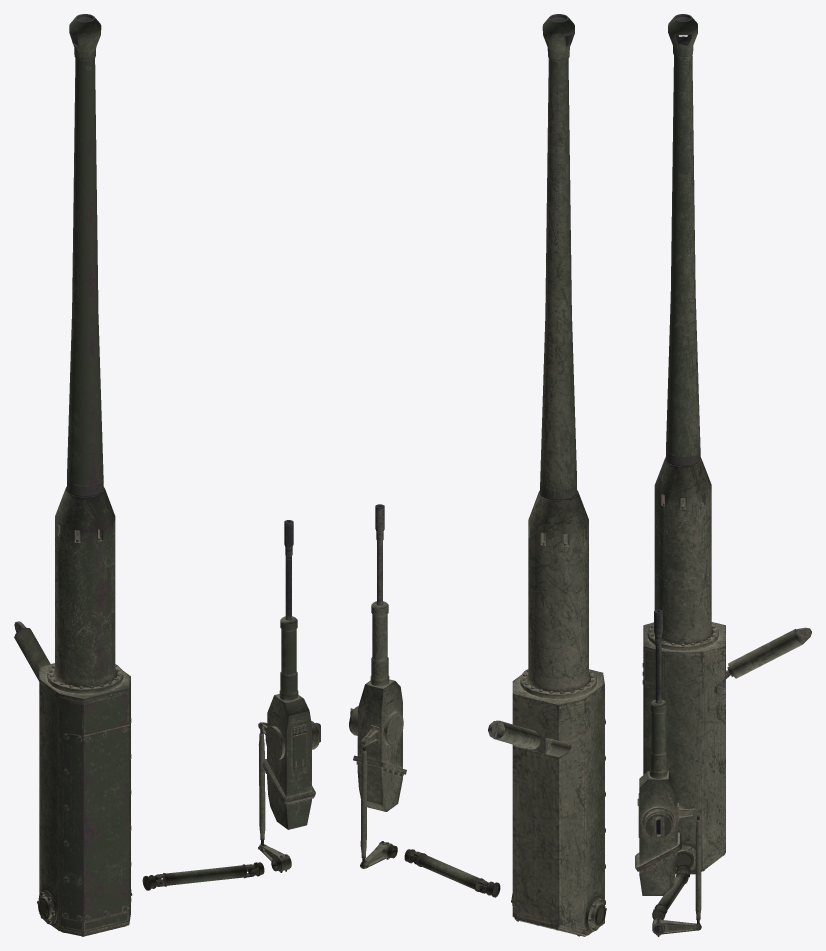
Rendered from Gun_01.glb.
3 renders of one model, left to right at view 1: azimuth 30°, elevation 25°; view 2: azimuth 150°, elevation 25°; view 3: azimuth 270°, elevation 25°, orthographic. The views are drawn at different scales.
Parts seen in each view (by area): view 1: set_0_group_0; view 2: set_0_group_0; view 3: set_0_group_0.
Boxes of the visible parts, left/top/right/bottom form: set_0_group_0: left=14, top=14, right=320, bottom=936; set_0_group_0: left=349, top=14, right=606, bottom=936; set_0_group_0: left=635, top=14, right=811, bottom=936.
Bounding box in the file's own units: 2 × 6.57 × 1.24.
1 material, 1 textured.
